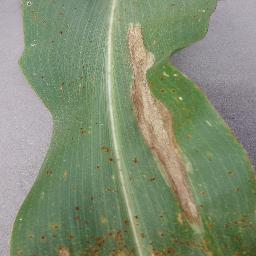Corn_Blight: (35, 215, 158, 256), (158, 170, 201, 256), (126, 81, 174, 138), (122, 18, 158, 82), (200, 217, 256, 256), (142, 138, 189, 169), (161, 63, 180, 78), (20, 0, 35, 13), (77, 124, 93, 136), (201, 189, 210, 210), (128, 155, 141, 169), (203, 154, 215, 169), (106, 184, 121, 195), (99, 145, 114, 154), (53, 28, 65, 39), (43, 167, 54, 178), (73, 205, 84, 214), (62, 167, 69, 181), (233, 187, 245, 195), (94, 163, 104, 172), (105, 158, 119, 164), (148, 175, 157, 183), (226, 168, 234, 177), (177, 94, 186, 101), (90, 195, 97, 202)
